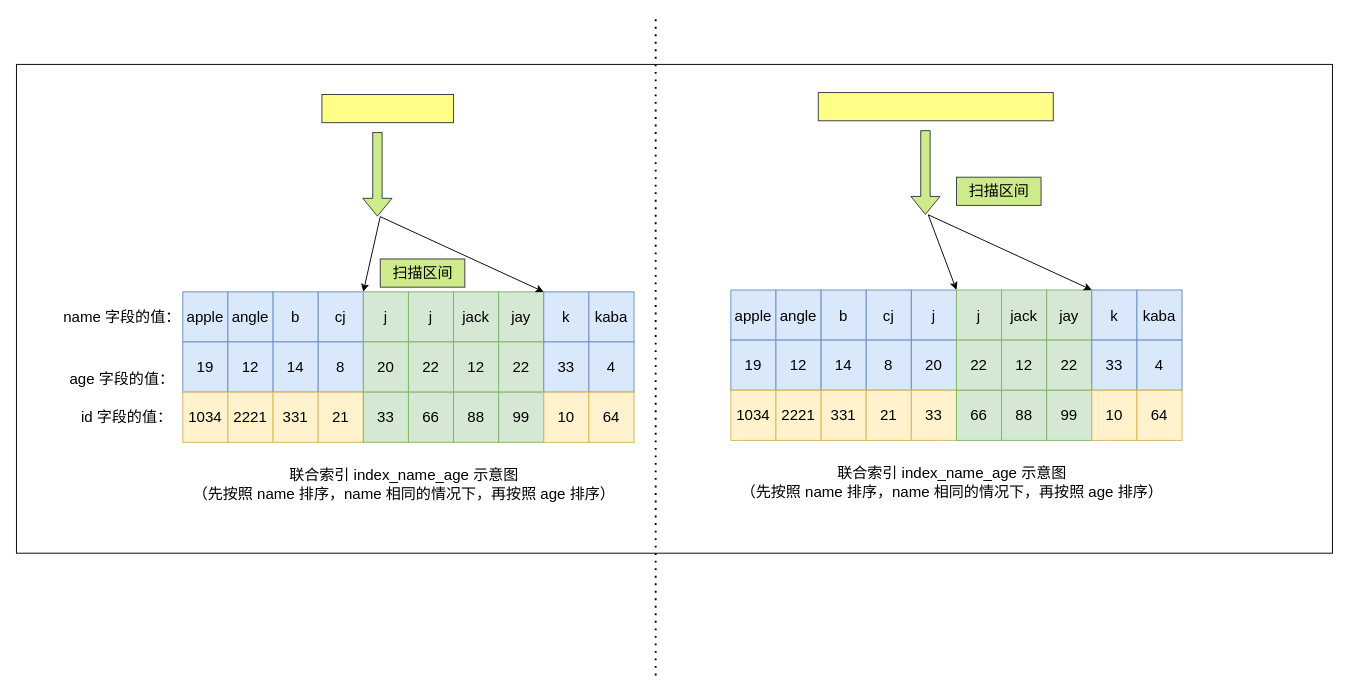
Some shapes in this 1349 by 693 pixel diagram are drawn without their labels. The box of each missing label's shape, as (x1, y1, x2, y2) in pixels:
条件 like 'j%': (321, 94, 454, 123)
条件 like 'j%' and age = 22: (817, 92, 1053, 121)
